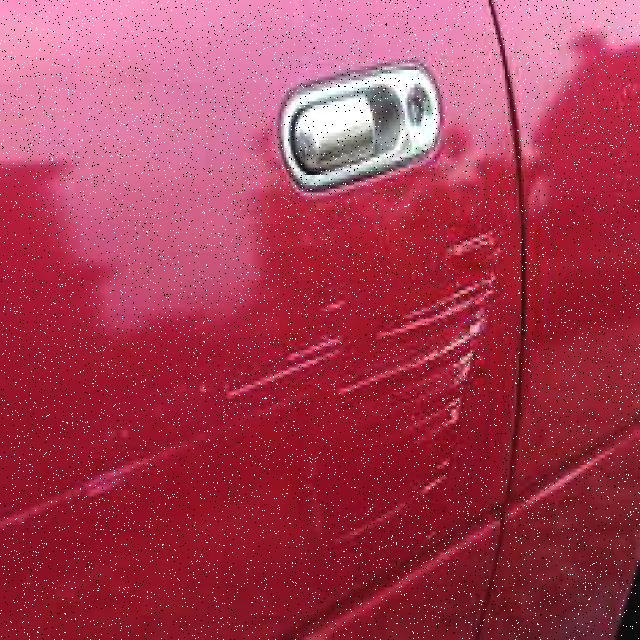car damage: (3, 213, 503, 547)
